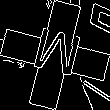M_S: (26, 25, 84, 85)
